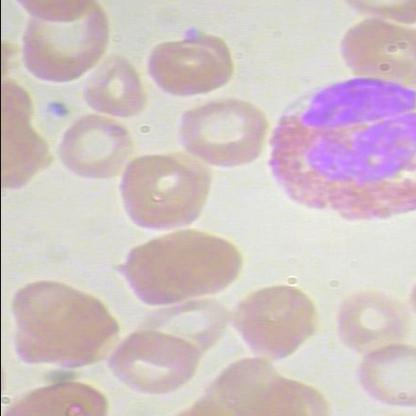Platelets: (39, 98, 69, 121)
RBC: (112, 144, 214, 234), (225, 274, 323, 366), (16, 0, 115, 87), (135, 229, 246, 299), (170, 97, 270, 174), (103, 330, 202, 400), (328, 284, 414, 362), (142, 31, 236, 99), (45, 114, 139, 182), (77, 53, 148, 119), (354, 340, 416, 410)
WBC: (260, 60, 415, 230)
